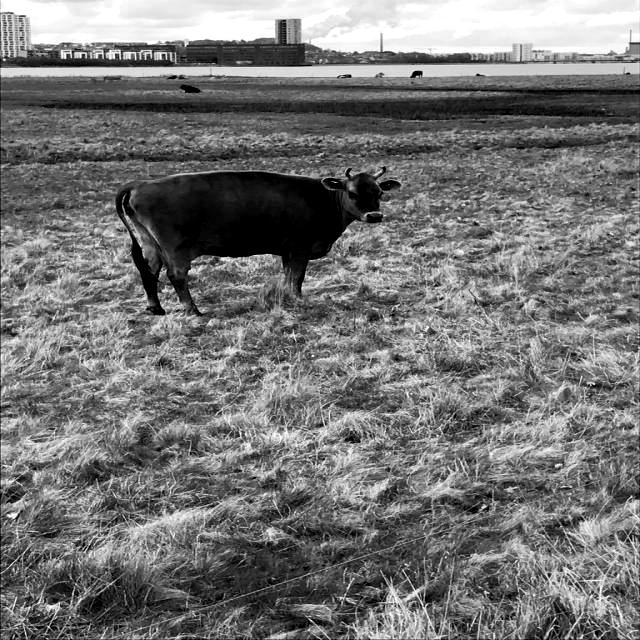COW: (116, 169, 401, 314)
